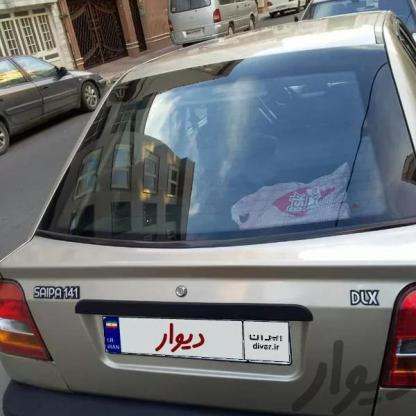Car: (0, 19, 416, 416), (0, 43, 119, 134), (140, 0, 292, 35)
